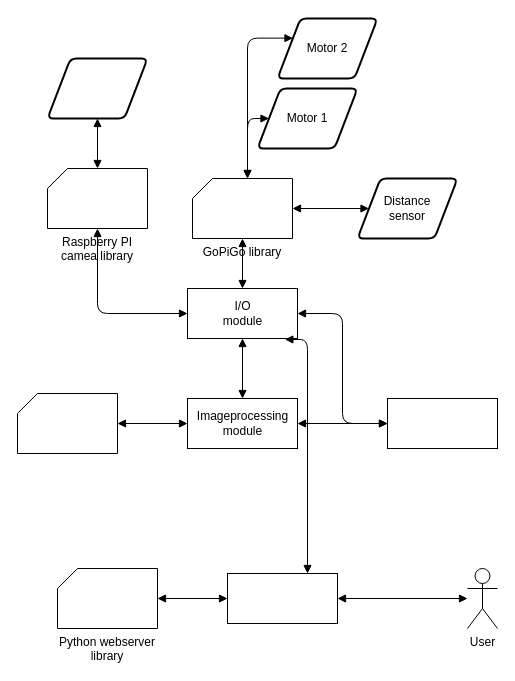
The diagram is 515 pixels wide and 681 high, and some of its shapes have lost their labels. The shapes that lost their labels are listed below. From the top down, each one's centre as x and y in pixels, then its label:
(97,88): Camera
(67,423): Open CV library
(442,423): Motion control module
(282,598): User interface module
